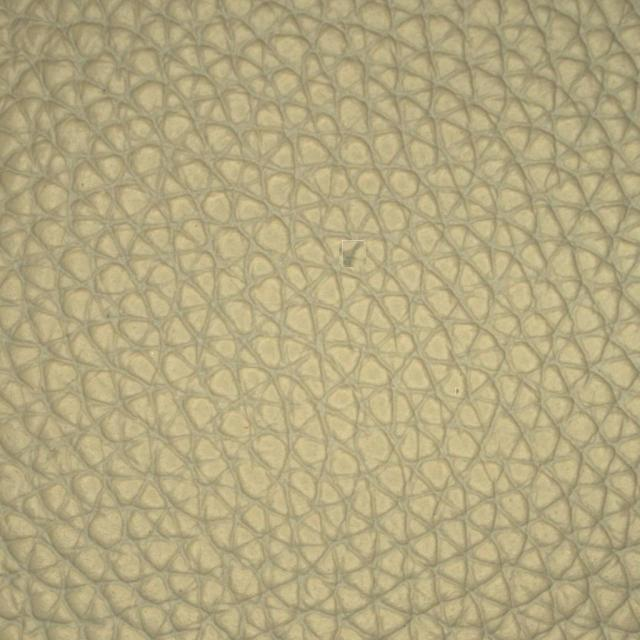pinhole: (286, 156, 416, 342)
